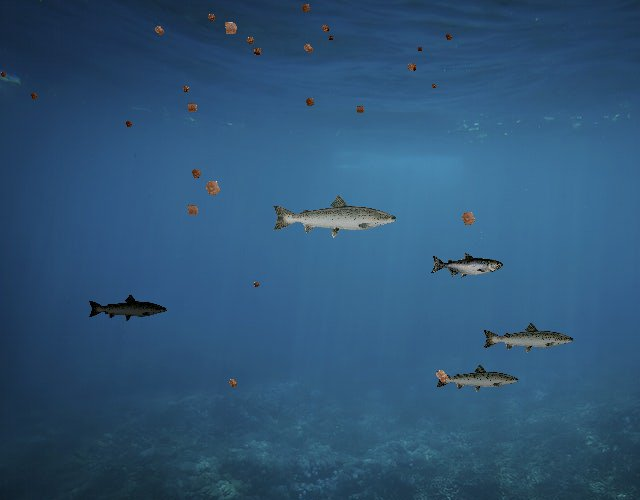Fish: (270, 193, 399, 239), (482, 322, 576, 355), (434, 363, 520, 394), (87, 294, 168, 323), (430, 253, 503, 279), (103, 302, 150, 319)
Pellet: (198, 172, 228, 202), (428, 363, 455, 390), (181, 199, 204, 222), (224, 374, 242, 392), (178, 82, 193, 97), (122, 117, 136, 131), (250, 279, 262, 291)
